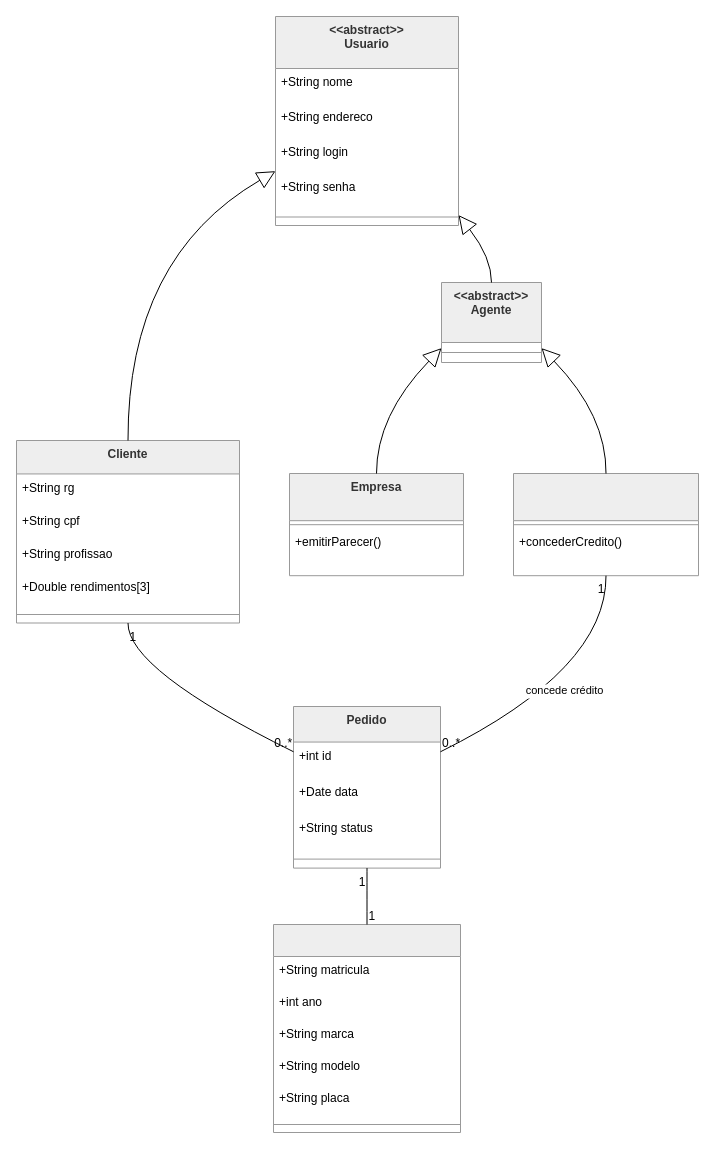
Image size: 715x1149. Some labels were removed from this diagram. Each missing label, with the box of its shape:
Automovel: (272, 924, 460, 1132)
Banco: (512, 472, 698, 576)
